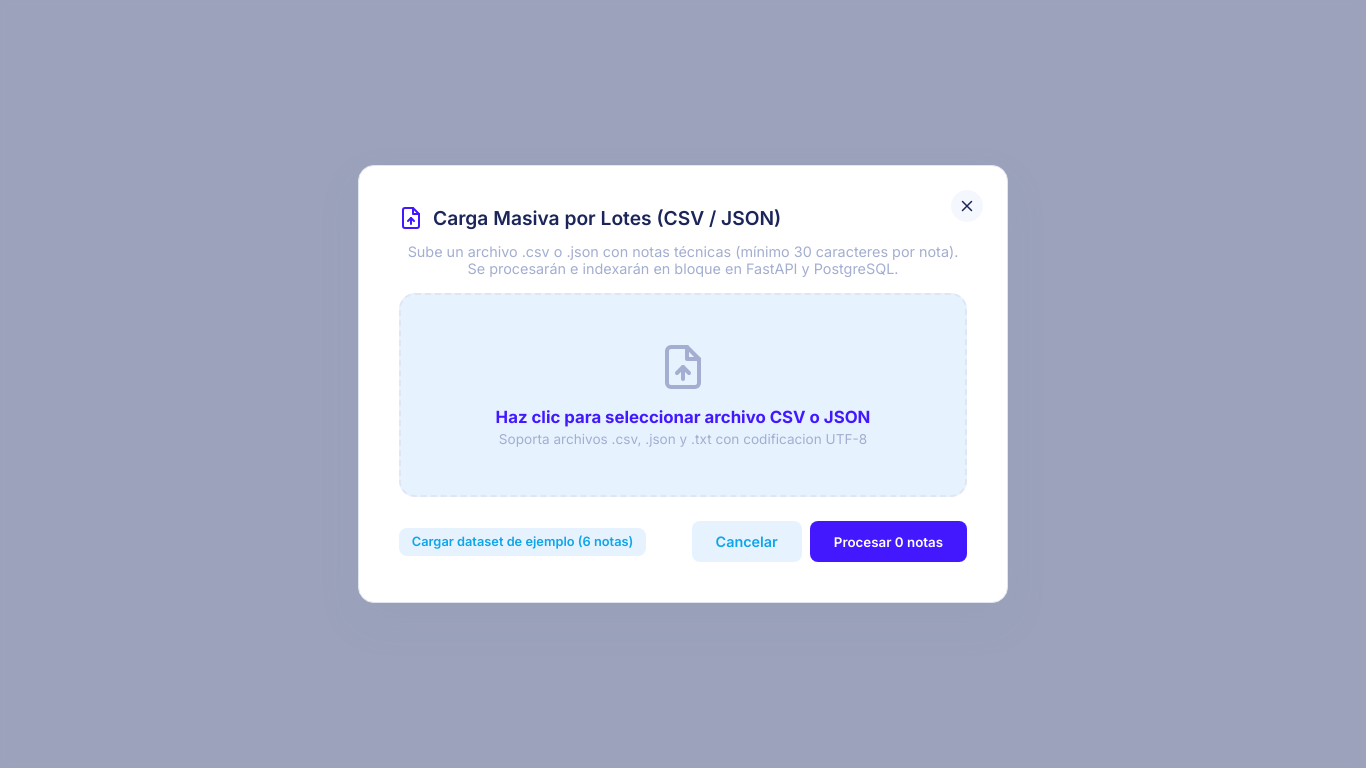
Scenario: UploadModal batch metrics › mantiene el modal visible y muestra las métricas snake_case de la respuesta real
This screenshot has width=1366, height=768.
Click the button "Cargar dataset de ejemplo (6 notas)" at coordinates (523, 542), box [399,528,646,556]
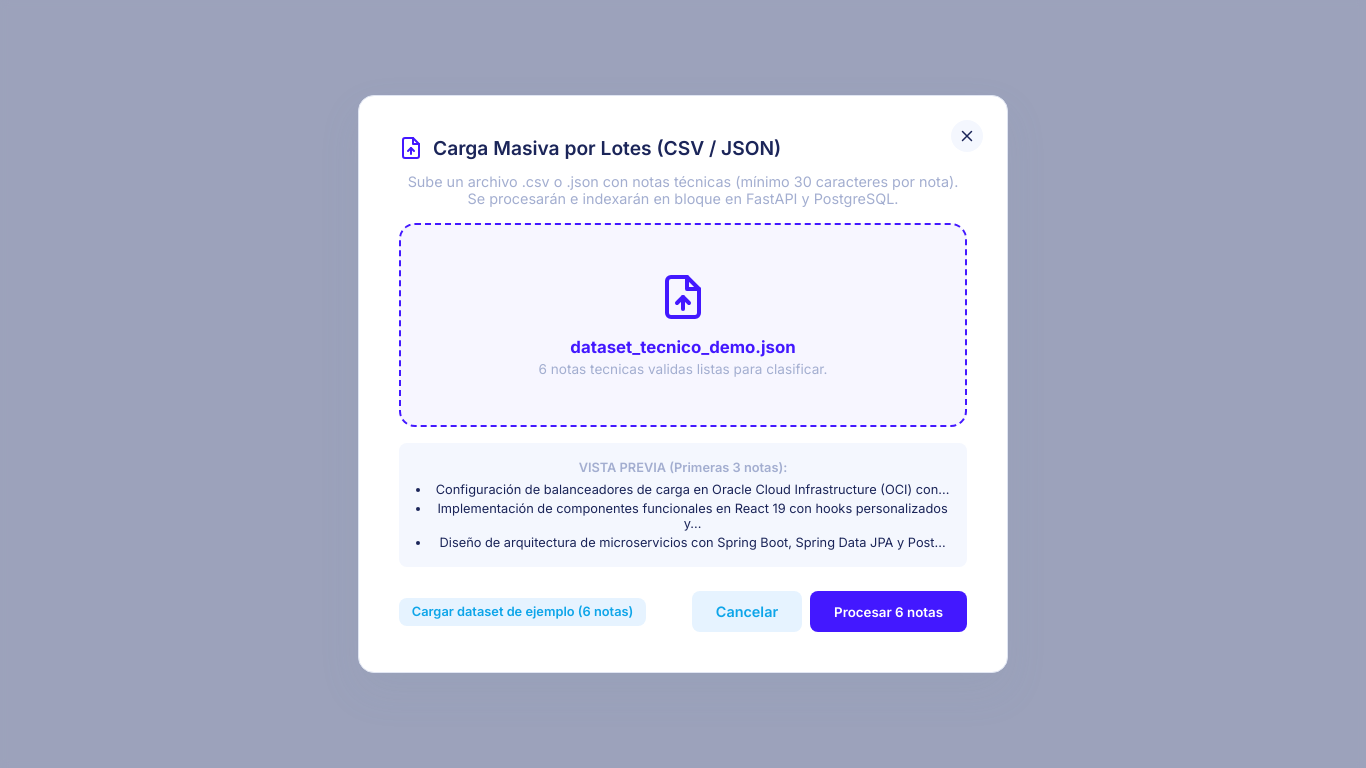
Click the button "Procesar 6 notas" at coordinates (889, 612), box [810,591,967,632]
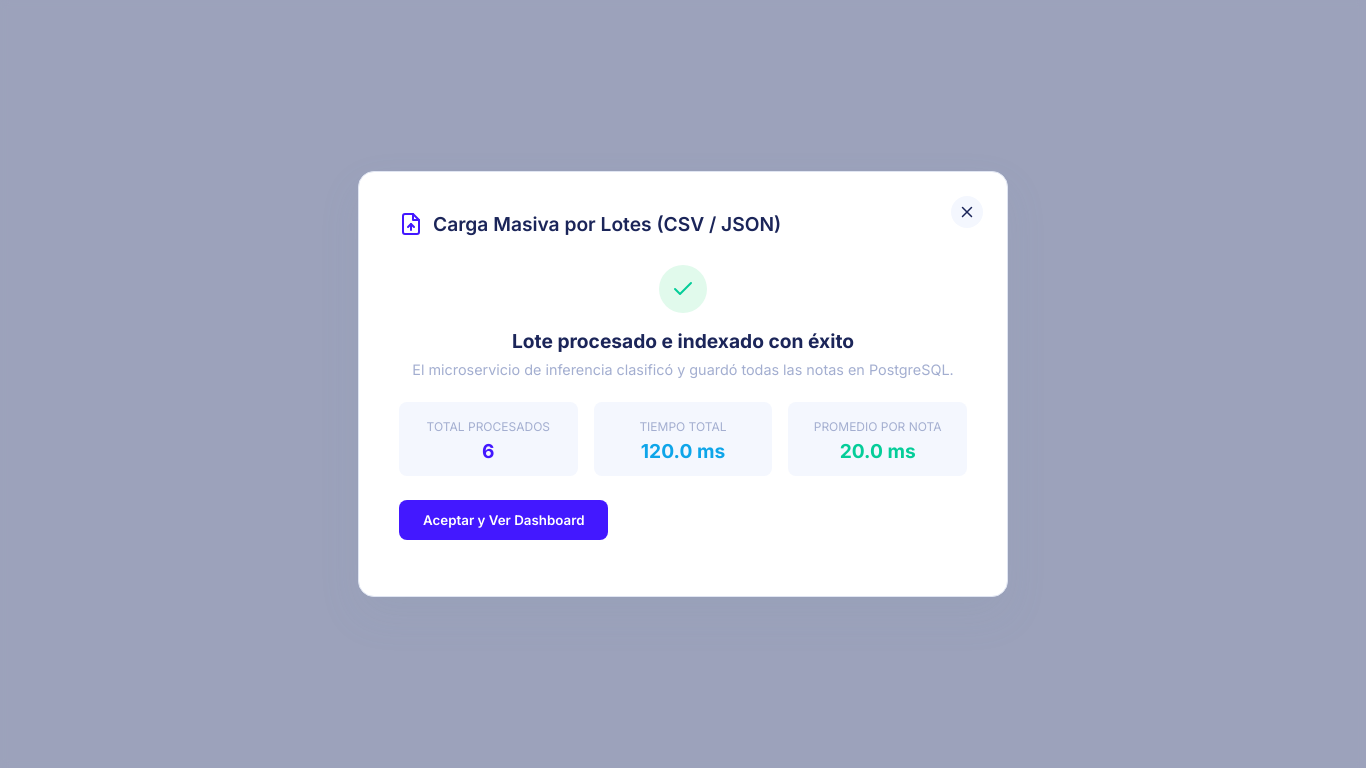
Expected: the heading "Lote procesado e indexado con éxito" is shown, [512,329,854,353]
Expected: the text "120.0 ms" is shown, [641,439,725,463]
Expected: the text "20.0 ms" is shown, [840,439,916,463]
